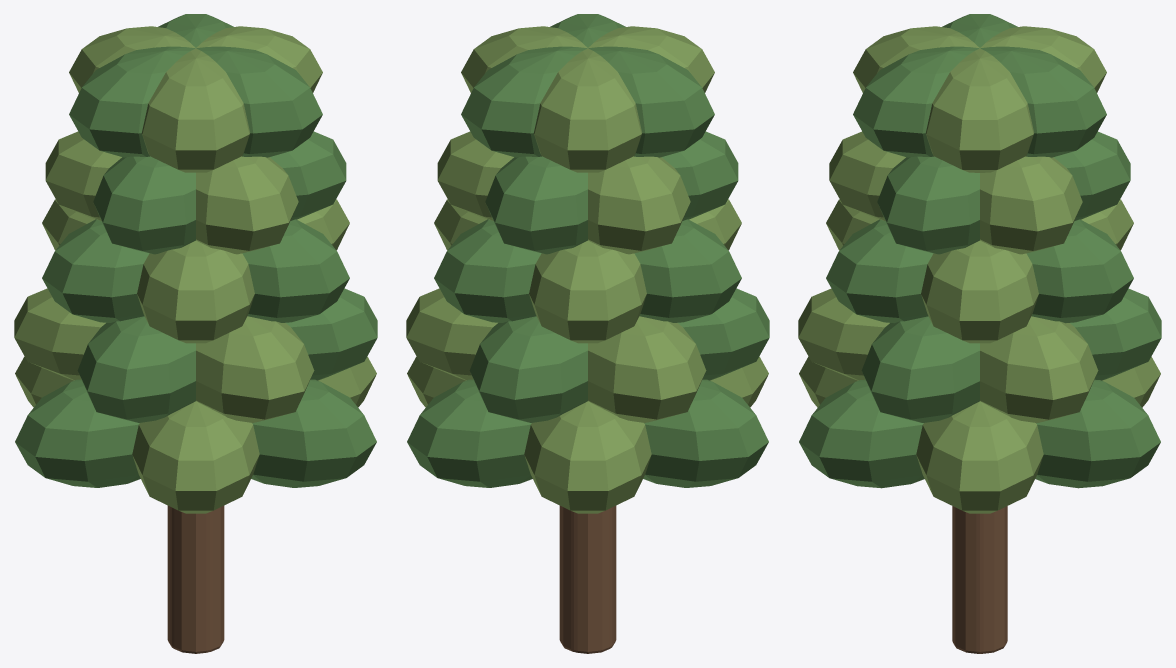
Rendered from pine_tree.glb.
3 renders of one model, left to right at view 1: azimuth 30°, elevation 25°; view 2: azimuth 150°, elevation 25°; view 3: azimuth 270°, elevation 25°, orthographic.
Parts seen in each view (by area): view 1: SceneryRuntime; view 2: SceneryRuntime; view 3: SceneryRuntime.
Part boxes in pixels (bbox=[...]): SceneryRuntime: bbox=[14, 14, 377, 653]; SceneryRuntime: bbox=[406, 14, 769, 653]; SceneryRuntime: bbox=[798, 14, 1161, 653].
Bounding box in the file's own units: 2.5 × 4.2 × 2.3.
